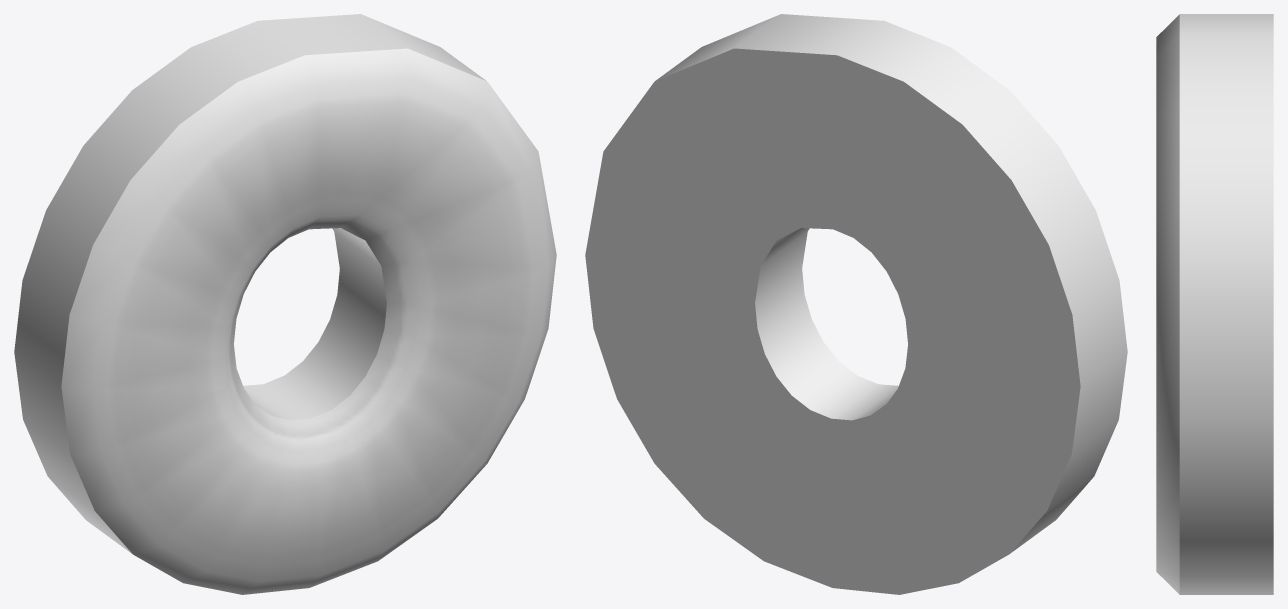
The model's file is LettersStylized01_O.FBX.
The picture shows the model from 3 angles, left to right: view 1: azimuth 30°, elevation 25°; view 2: azimuth 150°, elevation 25°; view 3: azimuth 270°, elevation 25°; orthographic projection.
Visible parts, largest first — view 1: LettersStylized01_O; view 2: LettersStylized01_O; view 3: LettersStylized01_O.
Part boxes in pixels (box(x1,y1,x2,y2)): LettersStylized01_O: box(14, 14, 556, 594); LettersStylized01_O: box(585, 14, 1127, 594); LettersStylized01_O: box(1156, 14, 1273, 594).
Size of what is drawn, in the model's own units: 0.4129 by 0.4253 by 0.085.
